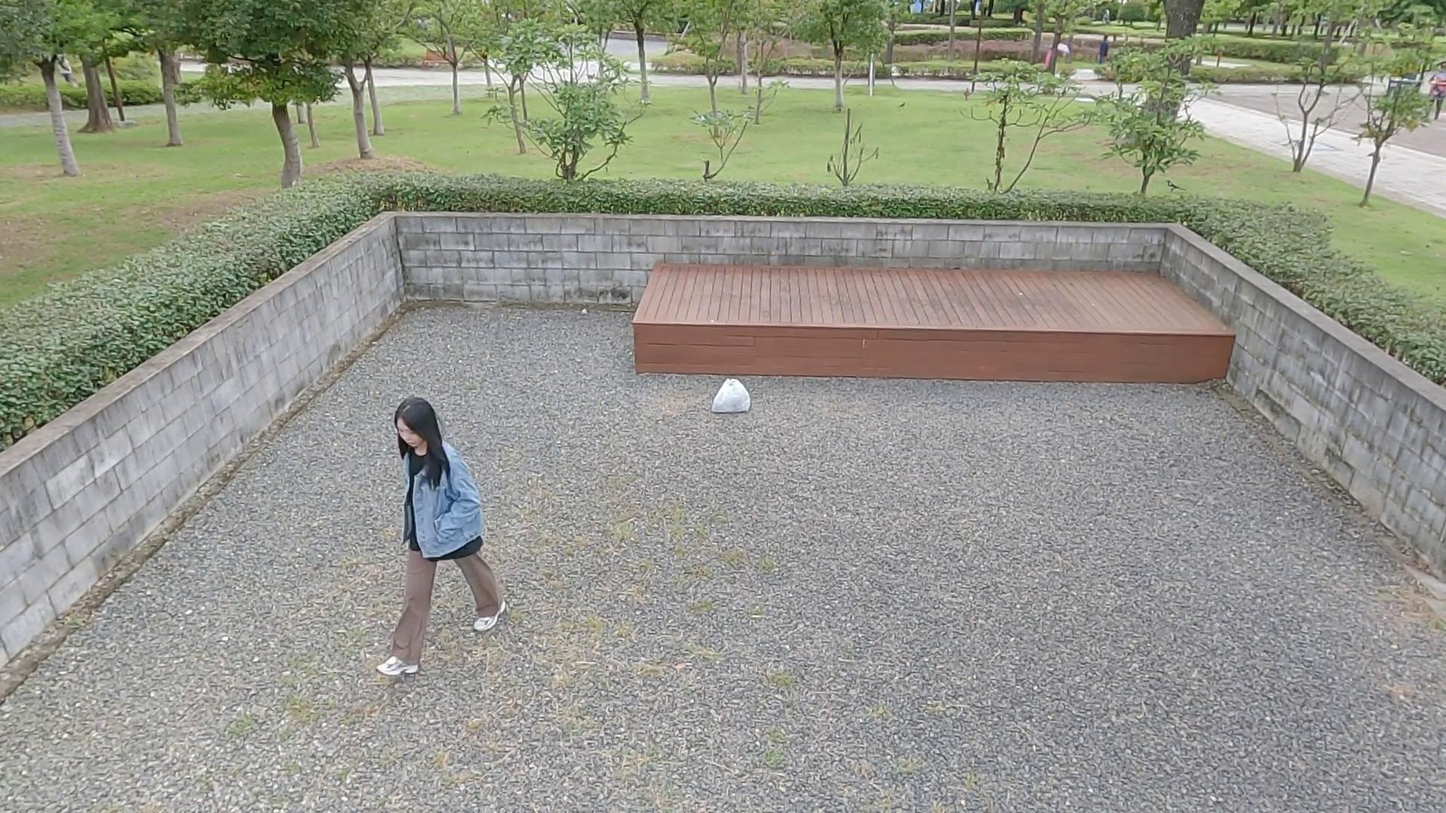person: (373, 392, 518, 681)
trash: (704, 372, 755, 419)
